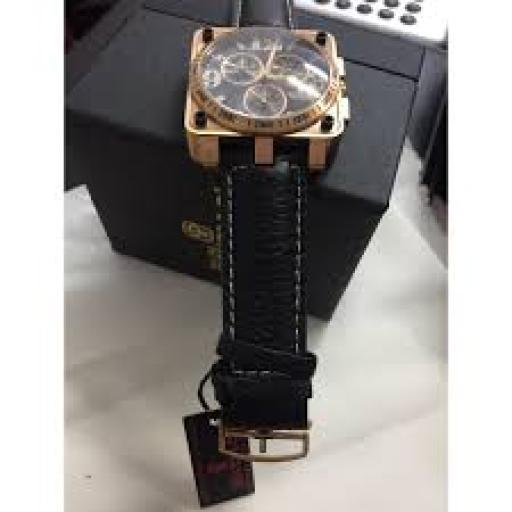KolSaati: (122, 3, 390, 480)
